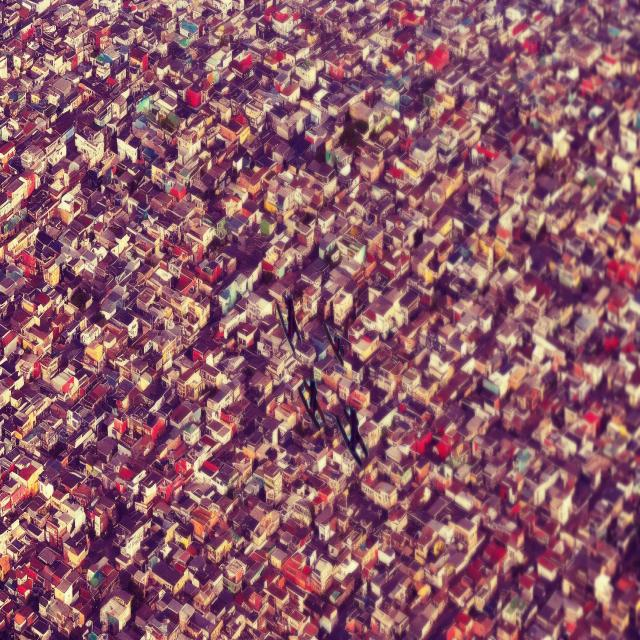airplane: (336, 399, 368, 466), (272, 290, 302, 354), (297, 375, 325, 428), (324, 320, 344, 366)
